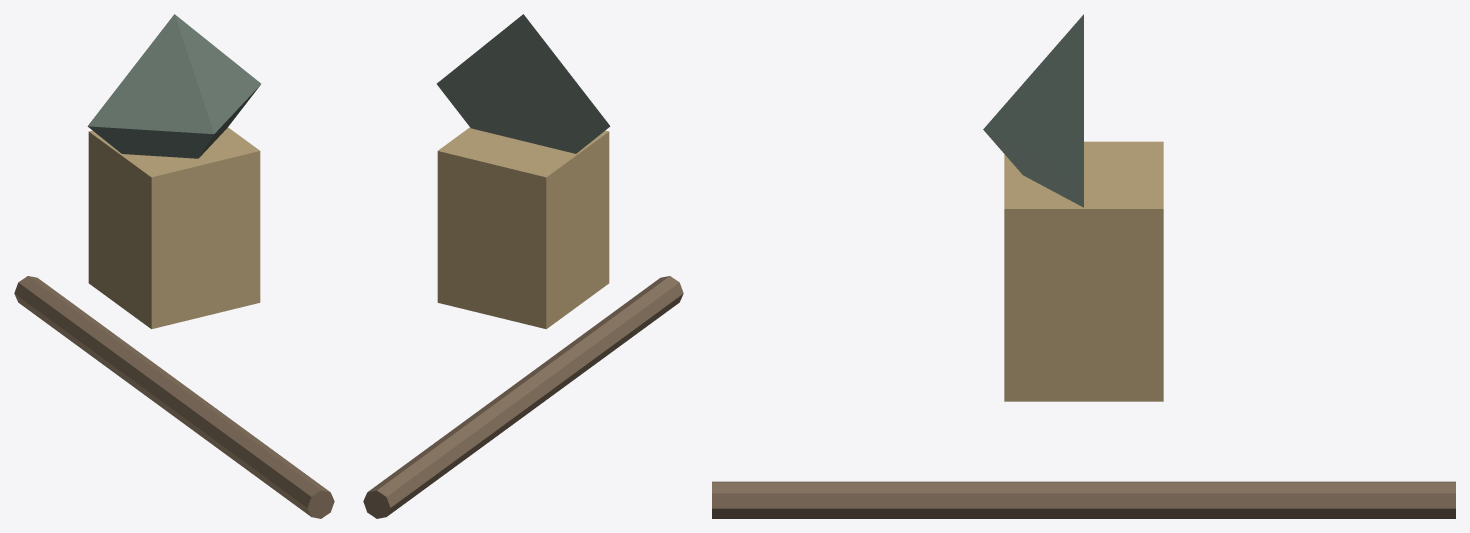
File: camp_lantern.glb
3 renders of one model, left to right at view 1: azimuth 30°, elevation 25°; view 2: azimuth 150°, elevation 25°; view 3: azimuth 270°, elevation 25°, orthographic. The views are drawn at different scales.
Parts seen in each view (by area): view 1: LanternFrame, LanternCap, LanternPost; view 2: LanternFrame, LanternCap, LanternPost; view 3: LanternFrame, LanternPost, LanternCap.
Part boxes in pixels (<box>): LanternFrame: <box>88,127,260,329</box>; LanternCap: <box>87,14,261,158</box>; LanternPost: <box>14,276,334,518</box>; LanternFrame: <box>437,127,609,329</box>; LanternCap: <box>436,14,610,153</box>; LanternPost: <box>363,276,683,518</box>; LanternFrame: <box>1004,141,1163,401</box>; LanternPost: <box>712,481,1455,518</box>; LanternCap: <box>983,14,1083,207</box>.
Size of the model in its own units: 0.96 by 2.1 by 2.8.
